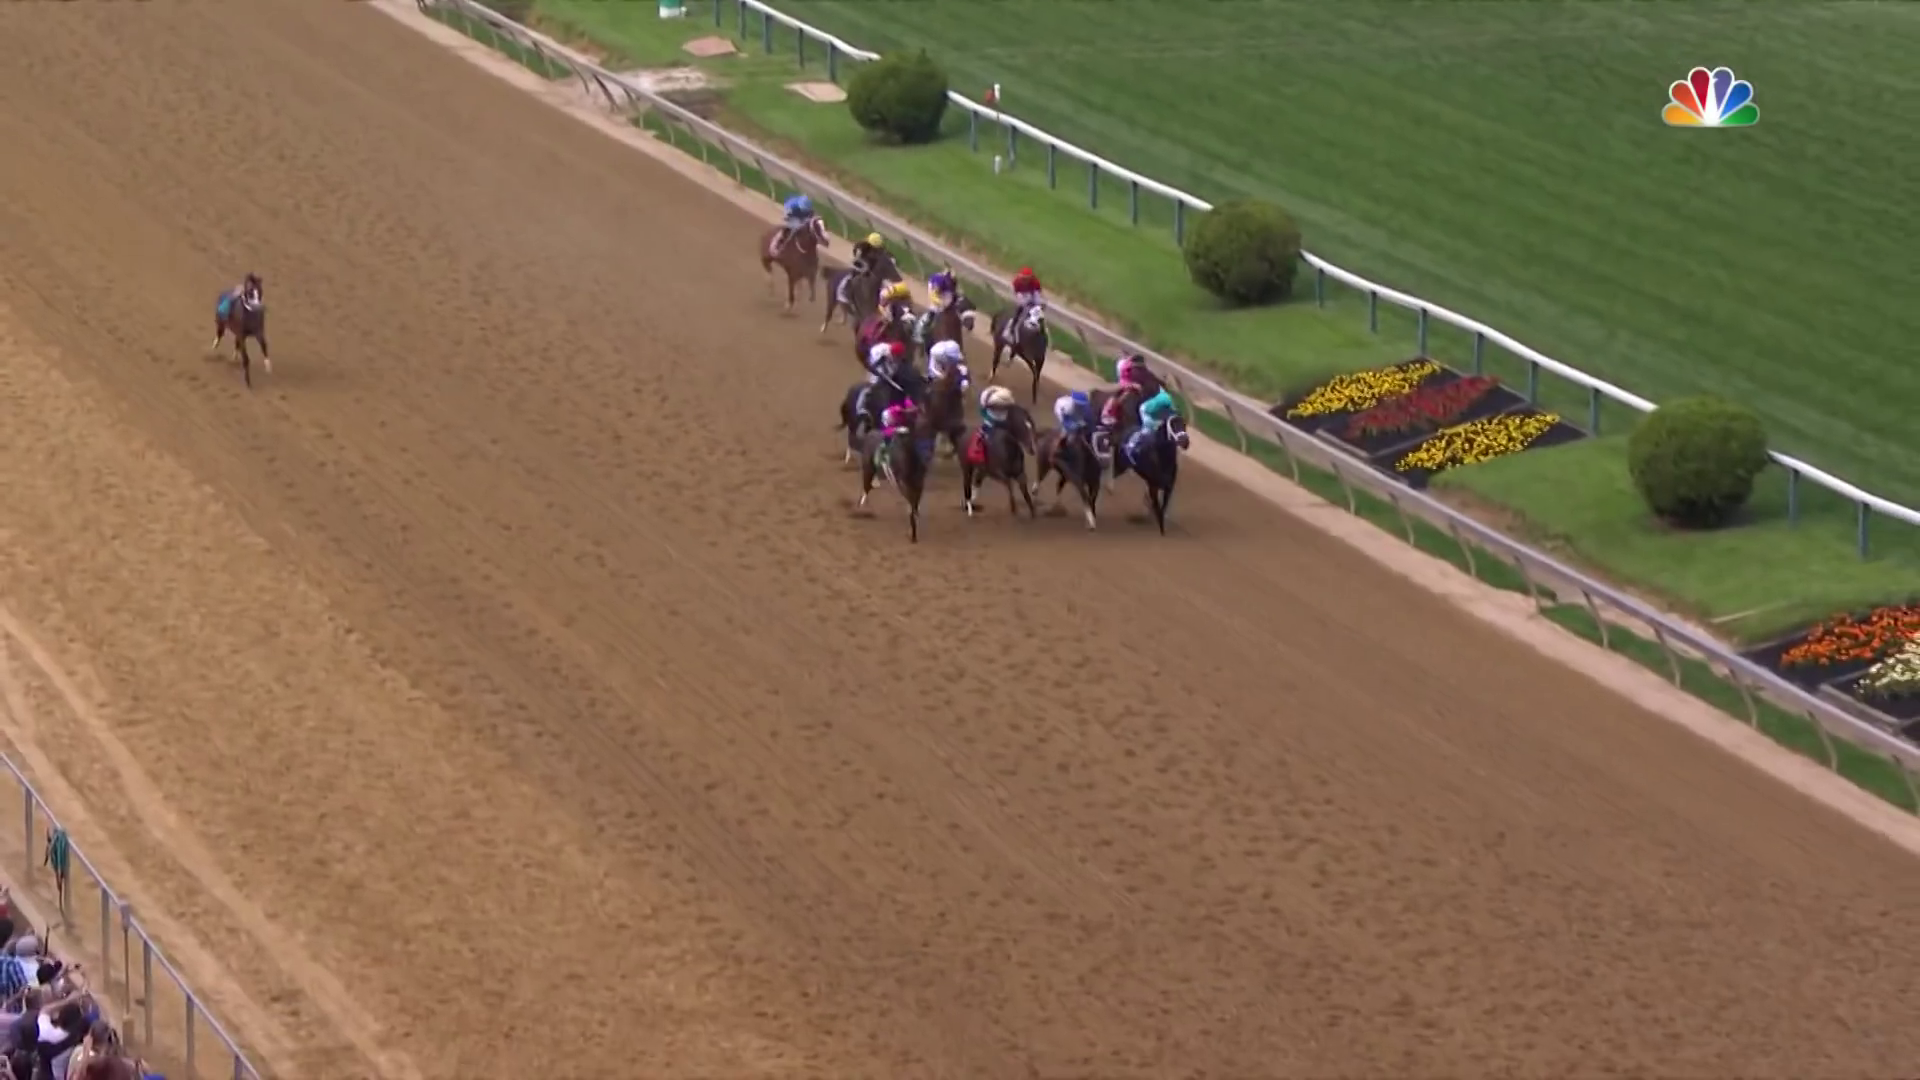jockey: (1131, 392, 1182, 458), (982, 384, 1017, 459), (924, 266, 963, 331), (866, 342, 905, 398), (1013, 266, 1043, 334), (775, 194, 814, 247), (928, 340, 963, 397), (1058, 393, 1095, 444), (880, 281, 915, 331), (852, 233, 885, 287), (1117, 351, 1155, 396), (885, 402, 916, 450)
